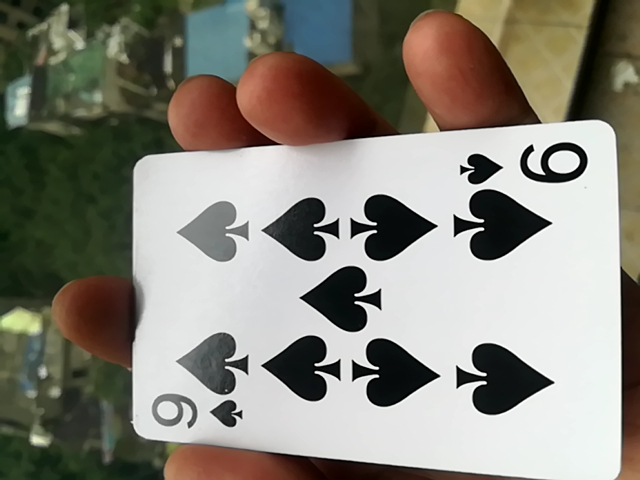ht 9: (122, 128, 607, 479)
